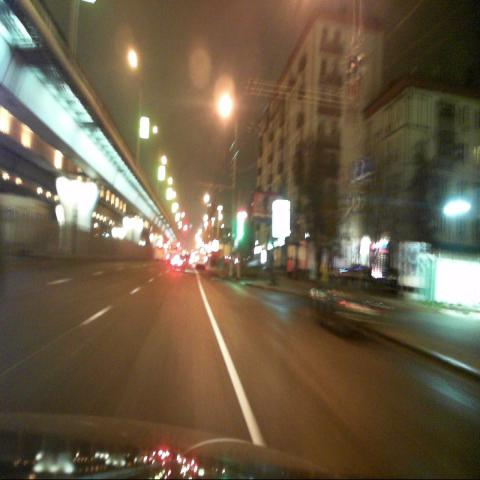5_15_3: (351, 191, 363, 214)
6_6: (357, 157, 371, 185)
